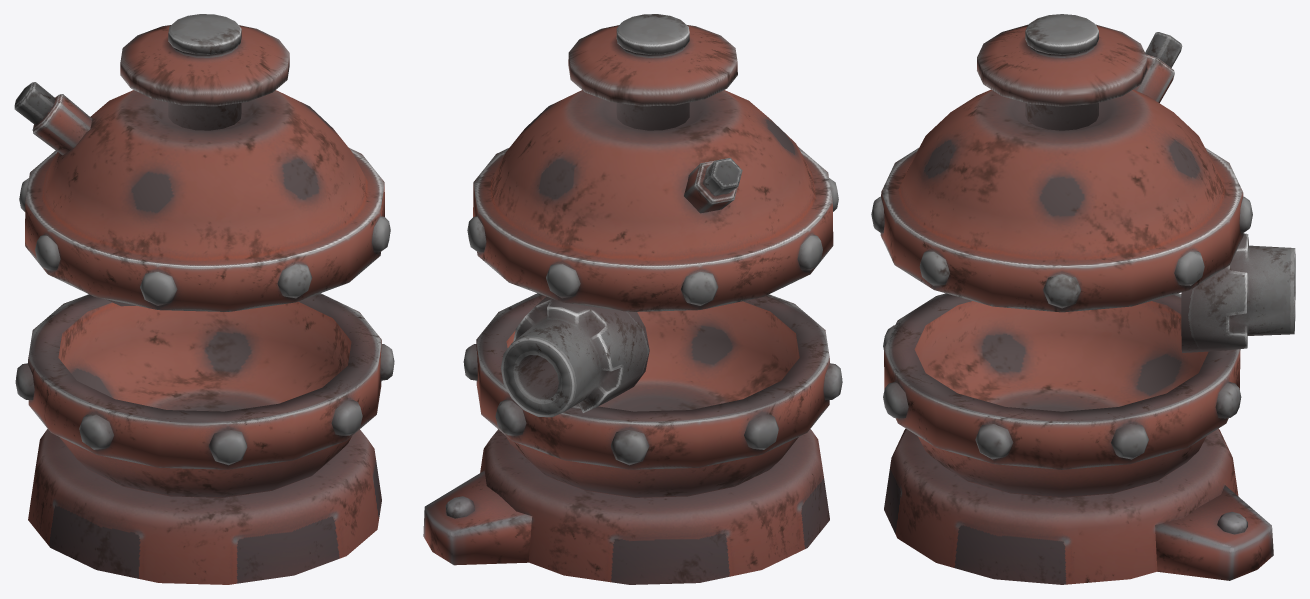
File: murret_shards1.fbx
3 renders of one model, left to right at view 1: azimuth 30°, elevation 25°; view 2: azimuth 150°, elevation 25°; view 3: azimuth 270°, elevation 25°, orthographic.
Parts seen in each view (by area): view 1: murret_shard2, murret_shard7, murret_shard5, murret_shard4, murret_shard3; view 2: murret_shard2, murret_shard7, murret_shard5, murret_shard4, murret_shard1, murret_shard6, murret_shard3; view 3: murret_shard2, murret_shard7, murret_shard5, murret_shard4, murret_shard1, murret_shard6, murret_shard3.
Part boxes in pixels (box(x1,y1,x2,y2)): murret_shard2: box(19, 90, 390, 311); murret_shard7: box(15, 293, 394, 497); murret_shard5: box(28, 429, 381, 584); murret_shard4: box(120, 14, 289, 130); murret_shard3: box(14, 82, 92, 155); murret_shard2: box(467, 90, 838, 311); murret_shard7: box(463, 293, 842, 497); murret_shard5: box(480, 429, 829, 584); murret_shard4: box(568, 14, 737, 130); murret_shard1: box(501, 296, 649, 417); murret_shard6: box(423, 470, 532, 565); murret_shard3: box(684, 158, 742, 213); murret_shard2: box(871, 89, 1252, 312); murret_shard7: box(883, 293, 1241, 497); murret_shard5: box(884, 428, 1238, 584); murret_shard4: box(977, 14, 1147, 130); murret_shard1: box(1181, 233, 1295, 352); murret_shard6: box(1155, 485, 1273, 580); murret_shard3: box(1133, 32, 1182, 102).
Size of the model in its own units: 224 by 312 by 249.
